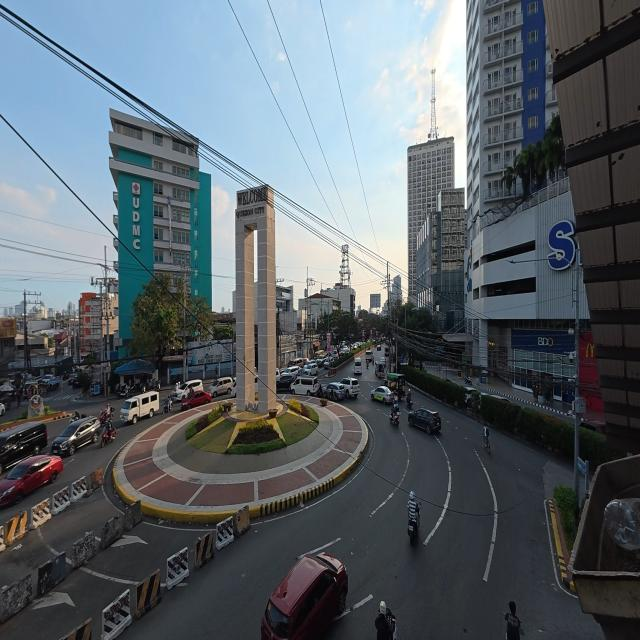car: (262, 548, 348, 638), (410, 408, 442, 435), (372, 384, 396, 403)
